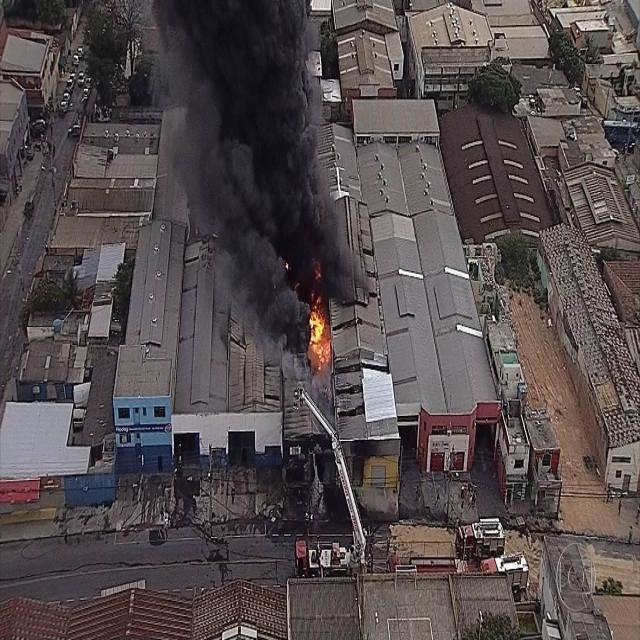smoke: (214, 24, 304, 260)
